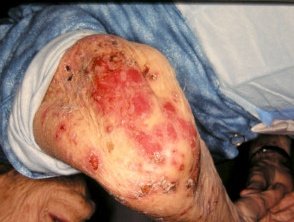SJS-TEN: (9, 4, 294, 222)
